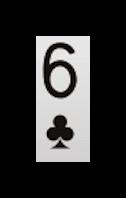6C: (40, 39, 82, 153)
